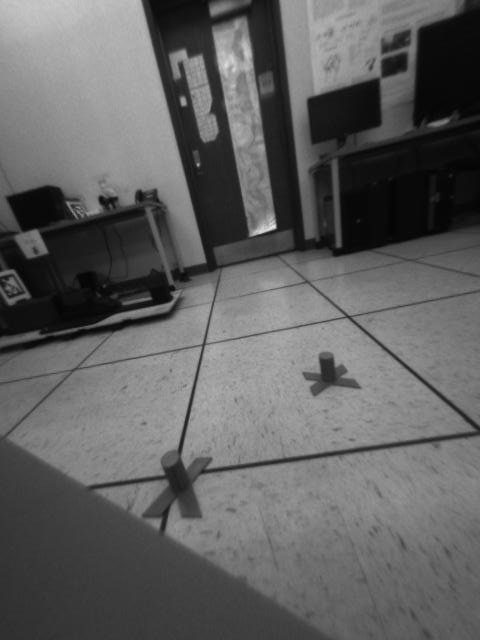X: (143, 450, 213, 518), (300, 350, 363, 397)
